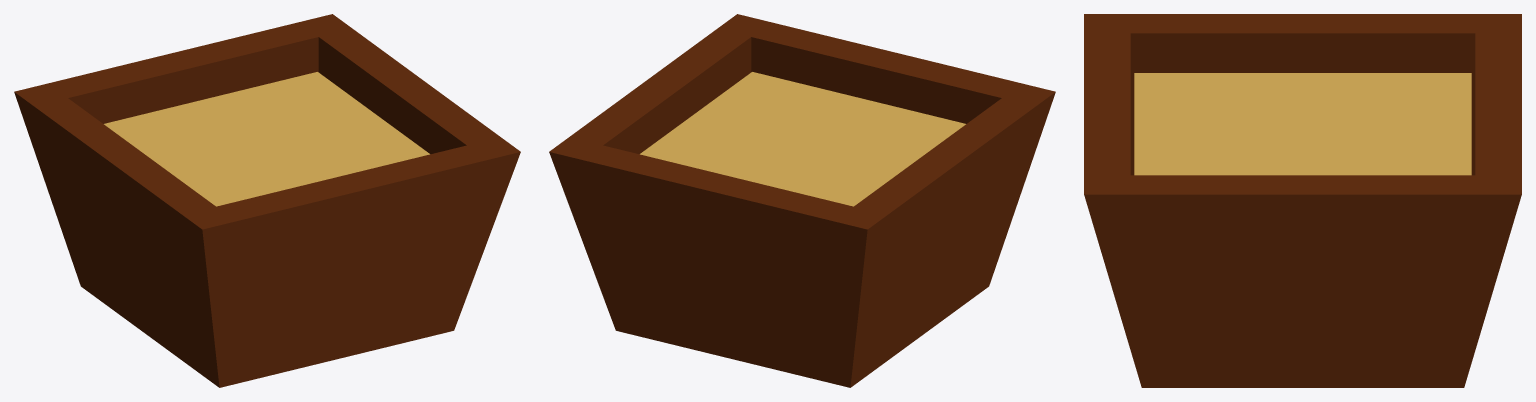
Rendered from Food Bowl 03.FBX.
3 views of the same model, side by side, from view 1: azimuth 30°, elevation 25°; view 2: azimuth 150°, elevation 25°; view 3: azimuth 270°, elevation 25° (orthographic). The views are drawn at different scales.
Parts seen in each view (by area): view 1: Food Bowl 03; view 2: Food Bowl 03; view 3: Food Bowl 03.
Boxes of the visible parts, <box> form: Food Bowl 03: <box>14,14,520,387</box>; Food Bowl 03: <box>549,14,1055,387</box>; Food Bowl 03: <box>1084,14,1521,387</box>.
Size of the model in its own units: 103 by 57.62 by 105.
